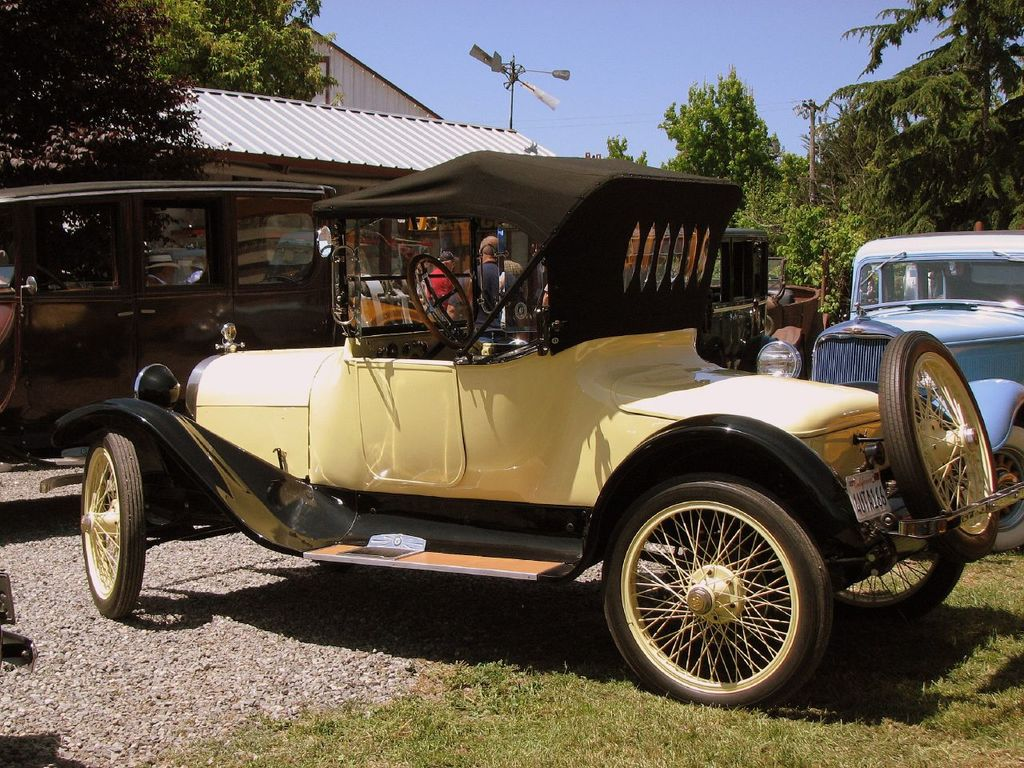Car: (39, 150, 1023, 708), (0, 180, 354, 463), (754, 226, 1023, 552)
